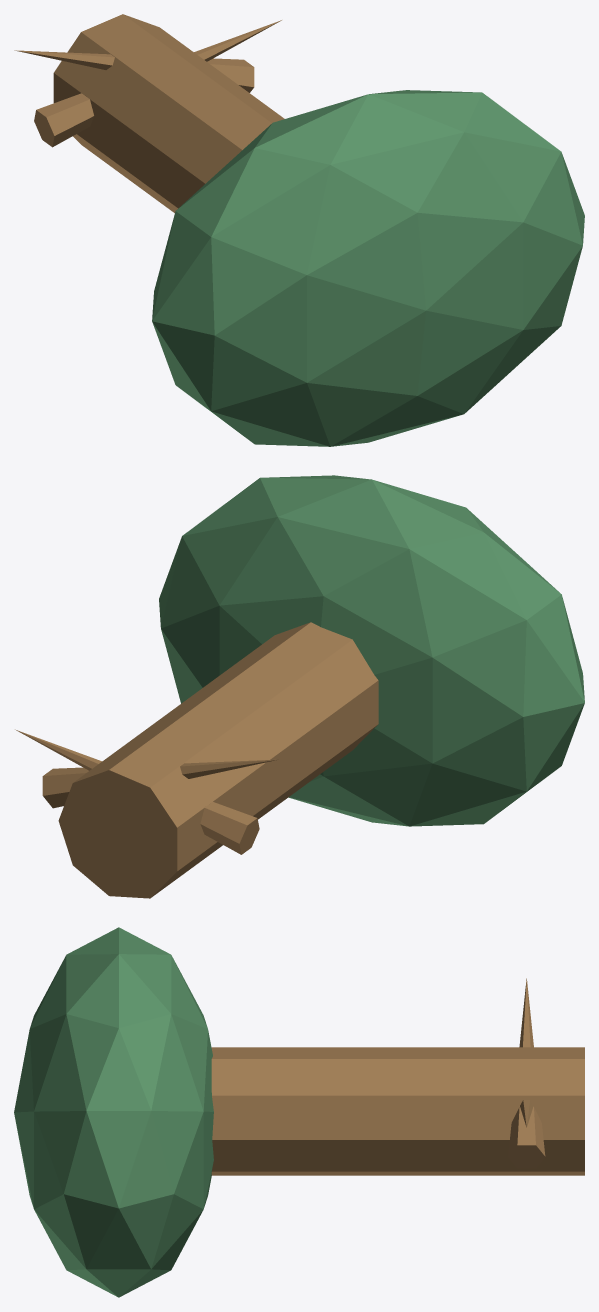
Rendered from 04_soundscape_landmark.glb.
The picture shows the model from 3 angles, top to bottom: view 1: azimuth 30°, elevation 25°; view 2: azimuth 150°, elevation 25°; view 3: azimuth 270°, elevation 25°; orthographic projection. The views are drawn at different scales.
Visible parts, largest first — view 1: canopy, ancient_trunk, root_a, root_b; view 2: canopy, ancient_trunk, root_a, root_b; view 3: canopy, ancient_trunk, root_b.
Boxes of the visible parts, x1=… form: canopy: x1=152, y1=90, x2=584, y2=446; ancient_trunk: x1=53, y1=14, x2=284, y2=212; root_a: x1=34, y1=20, x2=281, y2=147; root_b: x1=14, y1=50, x2=254, y2=92; canopy: x1=159, y1=475, x2=584, y2=826; ancient_trunk: x1=58, y1=622, x2=378, y2=898; root_a: x1=15, y1=729, x2=259, y2=854; root_b: x1=42, y1=759, x2=277, y2=808; canopy: x1=14, y1=927, x2=213, y2=1297; ancient_trunk: x1=211, y1=1047, x2=584, y2=1175; root_b: x1=508, y1=978, x2=545, y2=1168.
Bounding box in the file's own units: 1.95 × 1.5 × 2.45.
